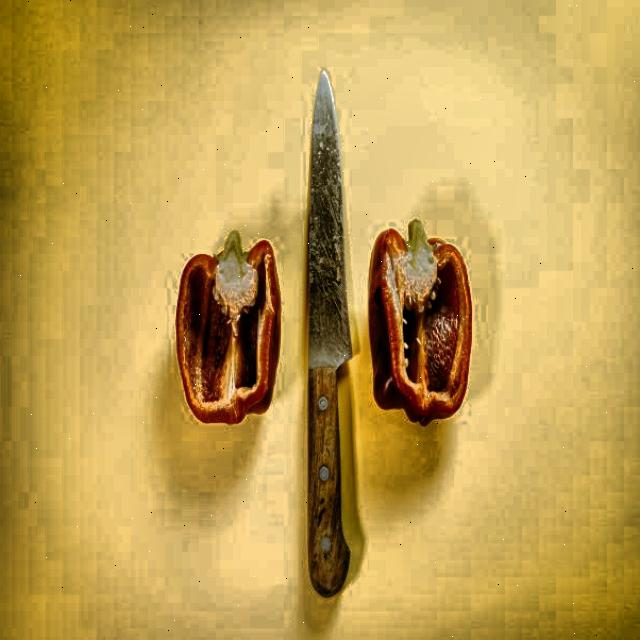knife: (302, 78, 358, 596)
